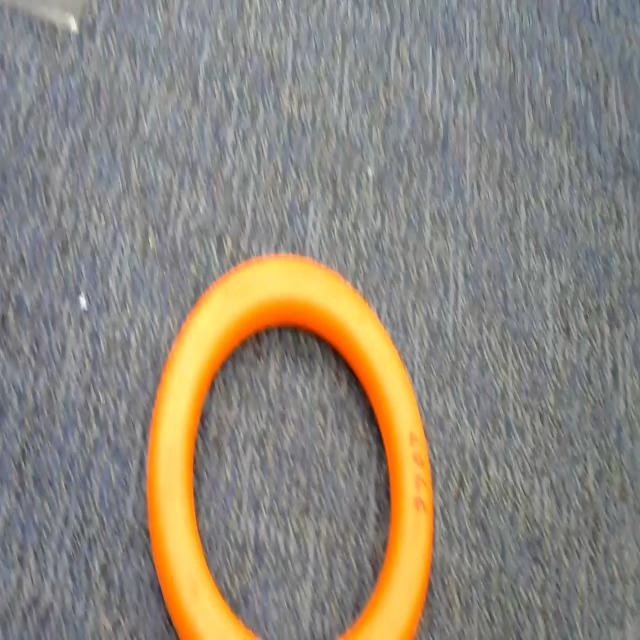note: (143, 242, 444, 640)
